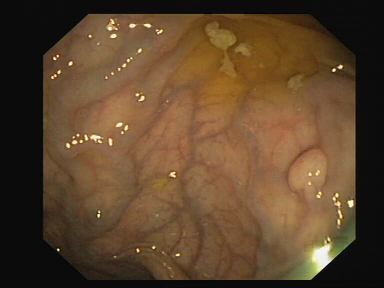polyp: (285, 147, 331, 199)
